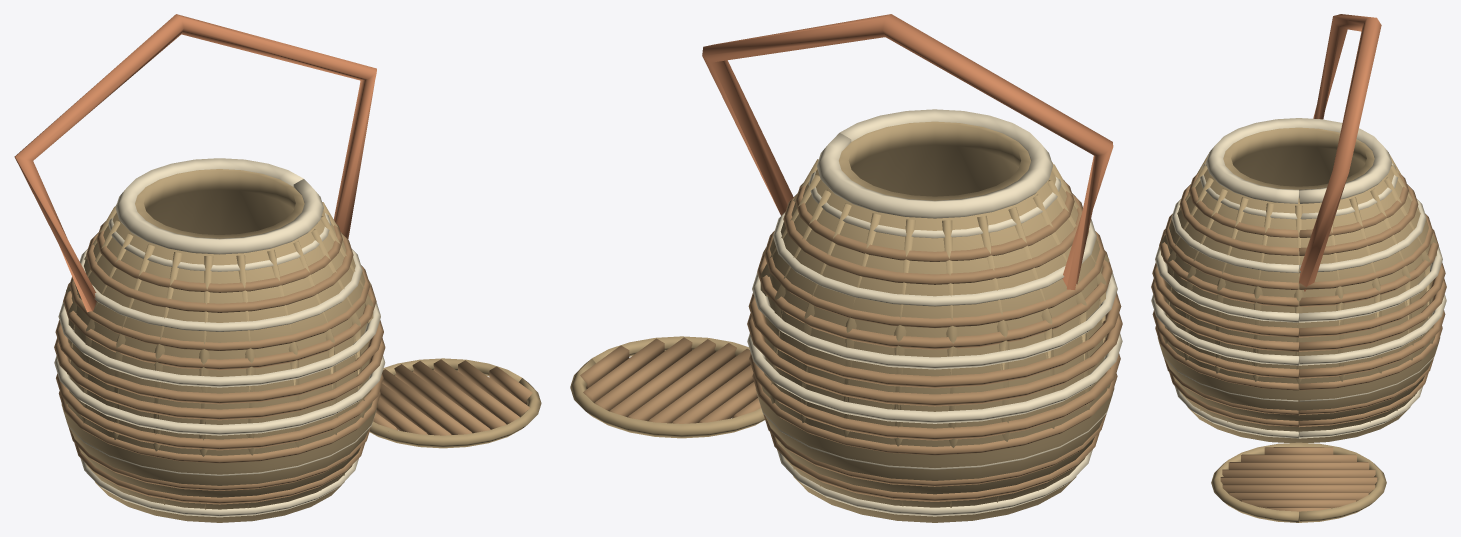
Rendered from fishing-creel.glb.
3 renders of one model, left to right at view 1: azimuth 30°, elevation 25°; view 2: azimuth 150°, elevation 25°; view 3: azimuth 270°, elevation 25°, orthographic. The views are drawn at different scales.
Visible parts, largest first — view 1: fishing-creel__rope, fishing-creel__woodlight, fishing-creel__linen, fishing-creel__clay; view 2: fishing-creel__rope, fishing-creel__woodlight, fishing-creel__linen, fishing-creel__clay; view 3: fishing-creel__rope, fishing-creel__woodlight, fishing-creel__linen, fishing-creel__clay.
Part boxes in pixels (<box>): fishing-creel__rope: <box>61,169,541,522</box>; fishing-creel__woodlight: <box>54,221,532,504</box>; fishing-creel__linen: <box>54,158,385,517</box>; fishing-creel__clay: <box>14,14,376,312</box>; fishing-creel__rope: <box>570,121,1114,522</box>; fishing-creel__woodlight: <box>580,180,1122,501</box>; fishing-creel__linen: <box>747,109,1122,516</box>; fishing-creel__clay: <box>702,14,1113,289</box>; fishing-creel__rope: <box>1157,127,1440,522</box>; fishing-creel__woodlight: <box>1151,173,1446,511</box>; fishing-creel__linen: <box>1151,118,1446,438</box>; fishing-creel__clay: <box>1299,14,1381,291</box>.
Bounding box in the file's own units: 0.9643 × 0.7956 × 0.5656.
